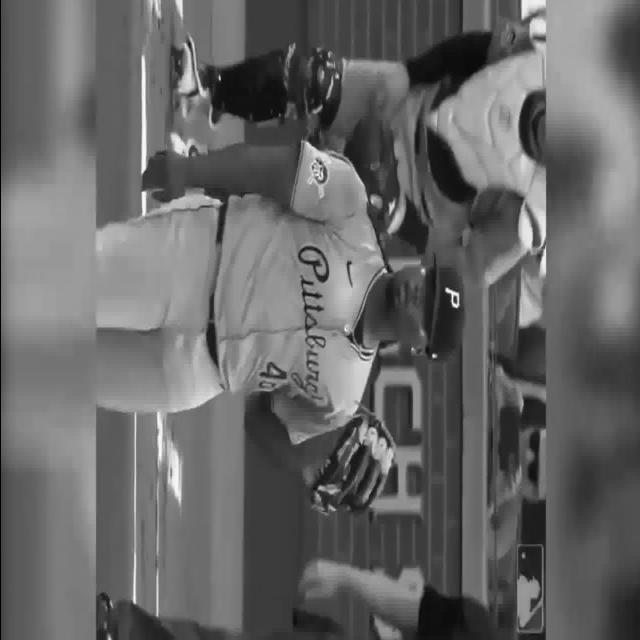base: (138, 52, 154, 218)
baseball_glove: (311, 409, 394, 527), (340, 110, 402, 234)
shoe: (171, 40, 217, 116)
